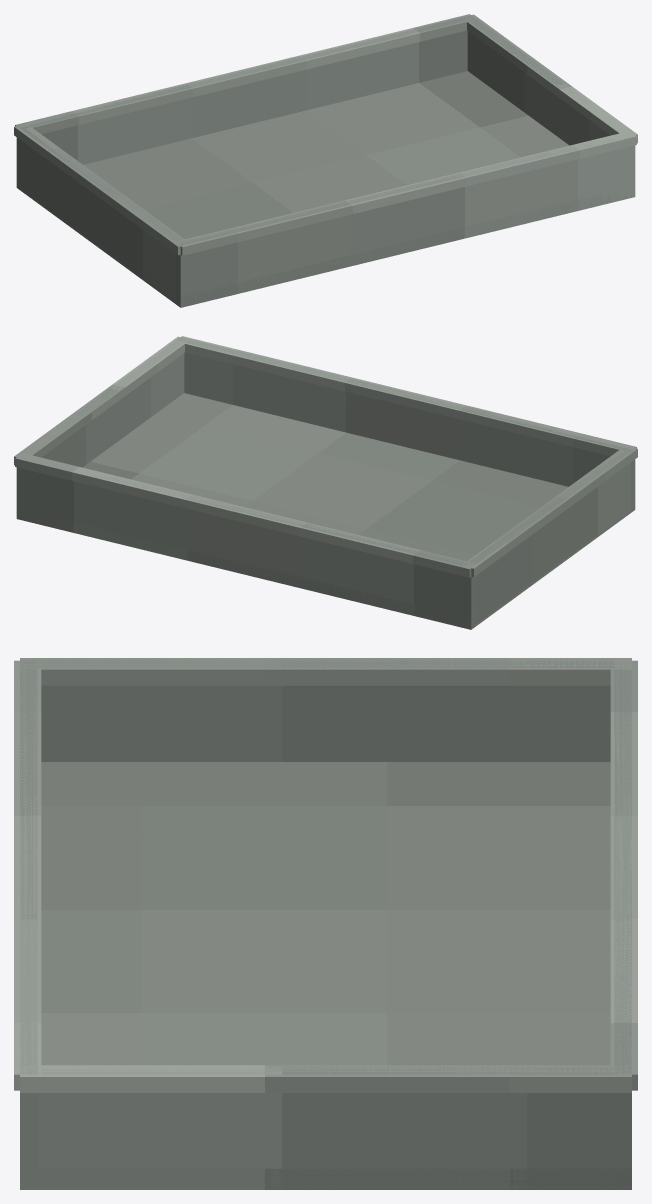
Rendered from seed-tray.glb.
3 renders of one model, top to bottom at view 1: azimuth 30°, elevation 25°; view 2: azimuth 150°, elevation 25°; view 3: azimuth 270°, elevation 25°, orthographic. The views are drawn at different scales.
Parts seen in each view (by area): view 1: seed-tray/tray-floor, seed-tray/long-wall--1, seed-tray/long-wall-1, seed-tray/end-wall--1, seed-tray/long-lip--1, seed-tray/end-wall-1, seed-tray/long-lip-1, seed-tray/end-lip--1, seed-tray/end-lip-1; view 2: seed-tray/tray-floor, seed-tray/long-wall-1, seed-tray/long-wall--1, seed-tray/end-wall--1, seed-tray/long-lip-1, seed-tray/long-lip--1, seed-tray/end-wall-1, seed-tray/end-lip-1, seed-tray/end-lip--1; view 3: seed-tray/tray-floor, seed-tray/end-wall-1, seed-tray/end-wall--1, seed-tray/end-lip-1, seed-tray/end-lip--1, seed-tray/long-lip-1, seed-tray/long-wall--1, seed-tray/long-lip--1, seed-tray/long-wall-1.
Part boxes in pixels (box(x1,y1,x2,y2)): seed-tray/tray-floor: box(16, 71, 635, 307); seed-tray/long-wall--1: box(176, 139, 635, 307); seed-tray/long-wall-1: box(16, 15, 475, 190); seed-tray/end-wall--1: box(21, 128, 183, 303); seed-tray/long-lip--1: box(175, 131, 636, 255); seed-tray/end-wall-1: box(467, 18, 610, 145); seed-tray/long-lip-1: box(15, 14, 475, 134); seed-tray/end-lip--1: box(14, 124, 185, 255); seed-tray/end-lip-1: box(462, 14, 637, 143); seed-tray/tray-floor: box(16, 393, 568, 629); seed-tray/long-wall-1: box(16, 463, 475, 629); seed-tray/long-wall--1: box(176, 337, 635, 512); seed-tray/end-wall--1: box(468, 450, 630, 625); seed-tray/long-lip-1: box(15, 453, 475, 577); seed-tray/long-lip--1: box(176, 336, 636, 456); seed-tray/end-wall-1: box(41, 341, 184, 467); seed-tray/end-lip-1: box(14, 336, 186, 465); seed-tray/end-lip--1: box(462, 446, 637, 577); seed-tray/tray-floor: box(20, 762, 631, 1189); seed-tray/end-wall-1: box(37, 1067, 614, 1189); seed-tray/end-wall--1: box(37, 660, 614, 761); seed-tray/end-lip-1: box(20, 1065, 631, 1092); seed-tray/end-lip--1: box(20, 658, 631, 685); seed-tray/long-lip-1: box(610, 660, 637, 1090); seed-tray/long-wall--1: box(20, 660, 37, 1189); seed-tray/long-lip--1: box(14, 660, 41, 1090); seed-tray/long-wall-1: box(614, 661, 631, 1189).
Size of the model in its own units: 0.506 by 0.065 by 0.3185.
Materials: 1 (1 with a texture image).
